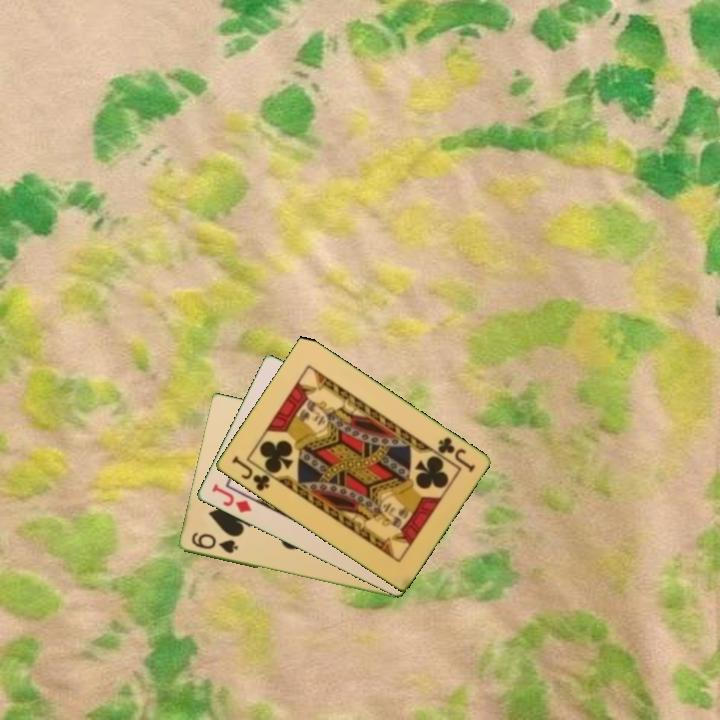6s: (188, 529, 240, 557)
Jc: (433, 433, 478, 475), (228, 452, 272, 494)
Jd: (208, 480, 254, 516)
